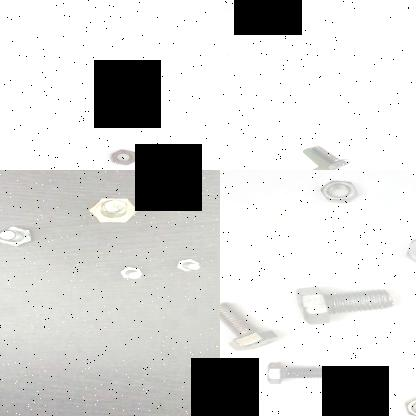Bolts: (288, 281, 396, 329), (220, 293, 282, 351), (260, 355, 338, 384), (80, 194, 152, 224), (304, 141, 356, 170), (0, 223, 38, 247), (112, 261, 152, 283), (167, 256, 205, 274)
NUTS: (317, 170, 363, 206), (325, 398, 375, 416), (106, 146, 140, 166), (400, 231, 416, 266), (398, 389, 416, 416)
